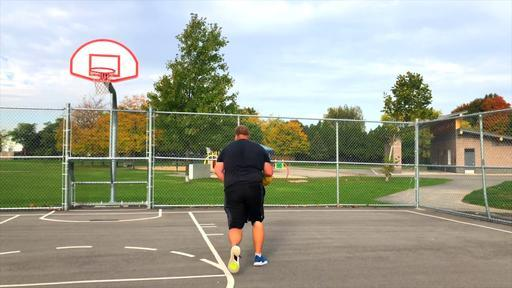ball: (262, 175, 273, 187)
human: (214, 126, 273, 274)
rim: (89, 67, 115, 95)
